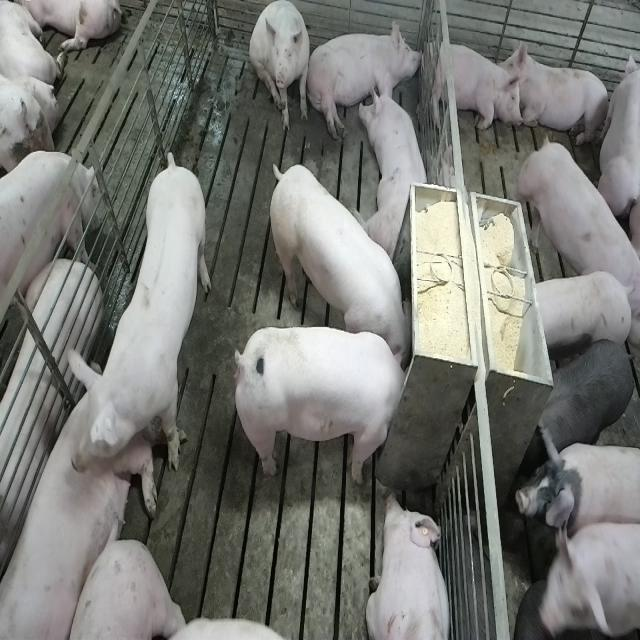Feeding: (265, 160, 412, 366), (239, 324, 417, 486)
Lateral_lying: (306, 16, 424, 142)
Sitting: (249, 1, 311, 136)
Standing: (63, 157, 211, 488), (514, 141, 638, 309), (0, 154, 96, 350), (514, 426, 637, 542), (534, 513, 637, 640), (532, 334, 636, 453), (531, 269, 634, 351)
Sternal_lying: (0, 368, 148, 634), (363, 70, 433, 259), (365, 490, 453, 640), (509, 40, 612, 148), (424, 34, 522, 135)
